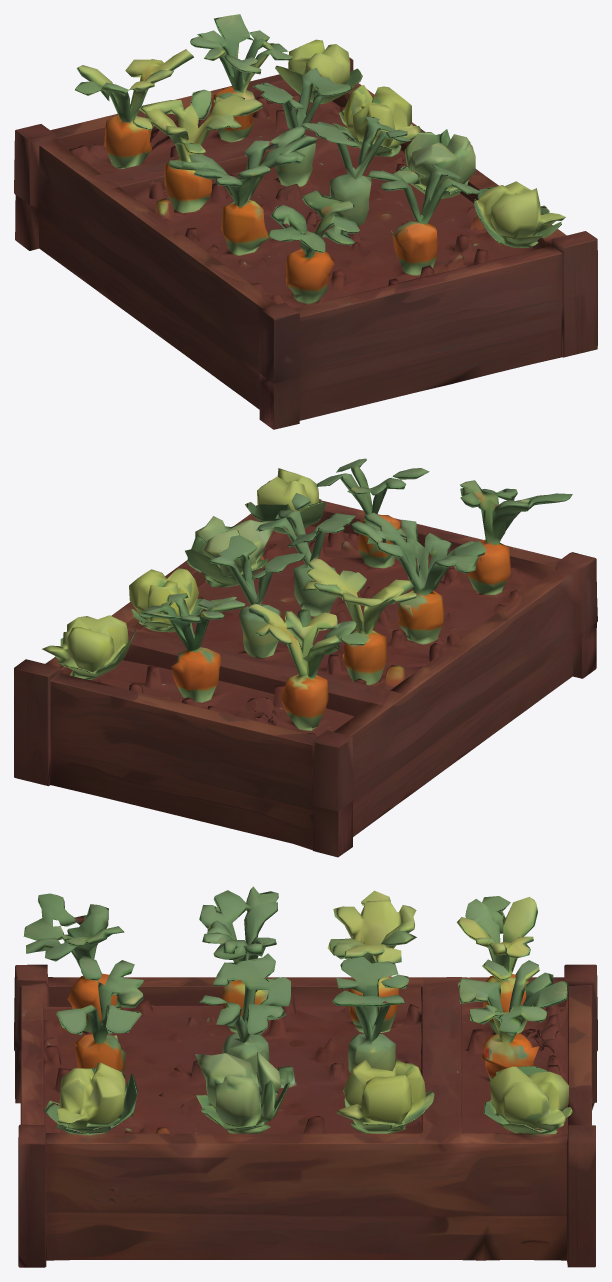
Rendered from gardenbed-tripo-original.glb.
The picture shows the model from 3 angles, top to bottom: view 1: azimuth 30°, elevation 25°; view 2: azimuth 150°, elevation 25°; view 3: azimuth 270°, elevation 25°; orthographic projection. The views are drawn at different scales.
Parts seen in each view (by area): view 1: tripo_node_fc0fe9f7-1b30-4502-a0df-f3d49708b4fc; view 2: tripo_node_fc0fe9f7-1b30-4502-a0df-f3d49708b4fc; view 3: tripo_node_fc0fe9f7-1b30-4502-a0df-f3d49708b4fc.
Boxes of the visible parts, <box> form: tripo_node_fc0fe9f7-1b30-4502-a0df-f3d49708b4fc: <box>14,14,597,429</box>; tripo_node_fc0fe9f7-1b30-4502-a0df-f3d49708b4fc: <box>14,458,597,857</box>; tripo_node_fc0fe9f7-1b30-4502-a0df-f3d49708b4fc: <box>14,886,597,1267</box>.
Size of the model in its own units: 0.7256 by 0.4111 by 1.
1 material, 1 textured.
